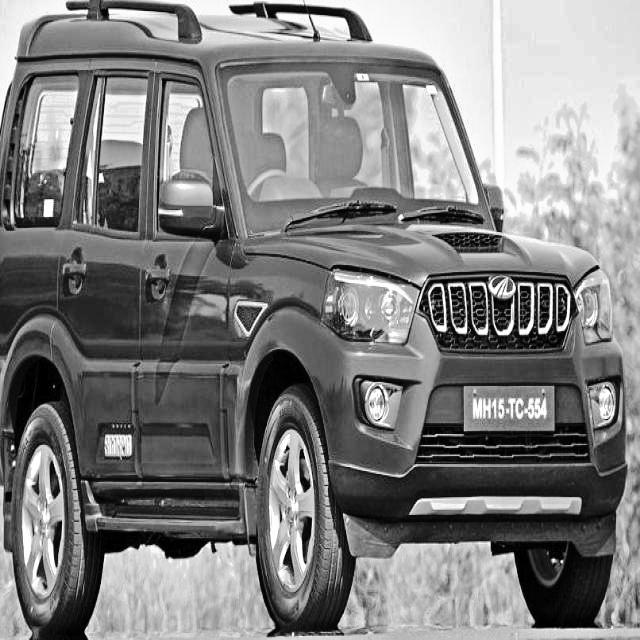Car: (0, 1, 640, 639)
